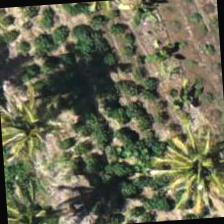Kelapa_Sawit: (0, 81, 75, 177), (150, 120, 223, 217), (4, 169, 76, 223)
